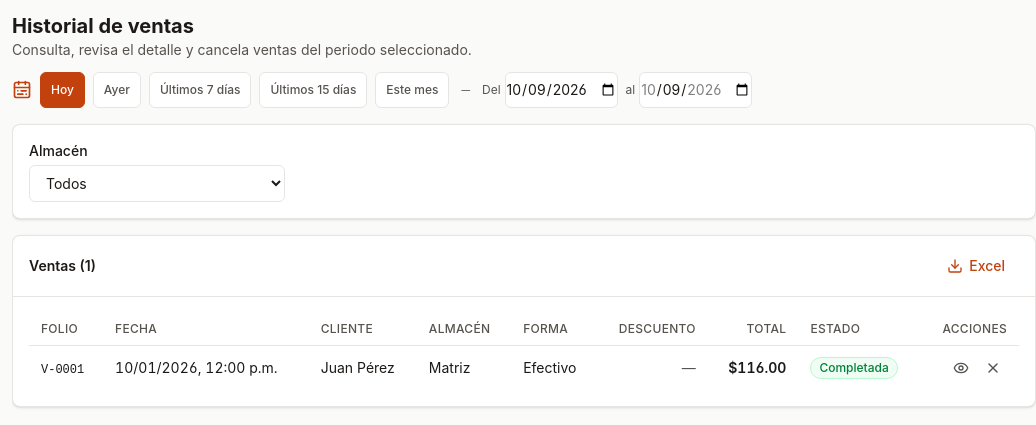
it: VentasPage › filtra por almacén y muestra Limpiar para quitar el filtro
Expected: the text "V-0001" is shown, [41,363,84,377]
Step 1. Select "Matriz" in the dropdown labelled "Almacén" → (157, 184), box [29,165,285,202]
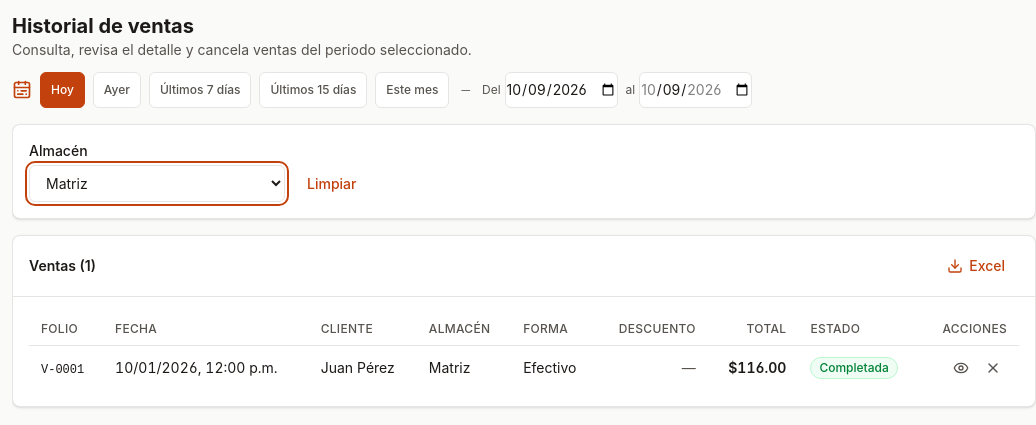
Result: the button "Limpiar" is shown
Step 2. Click the button "Limpiar" → (332, 184), box [293,166,370,202]
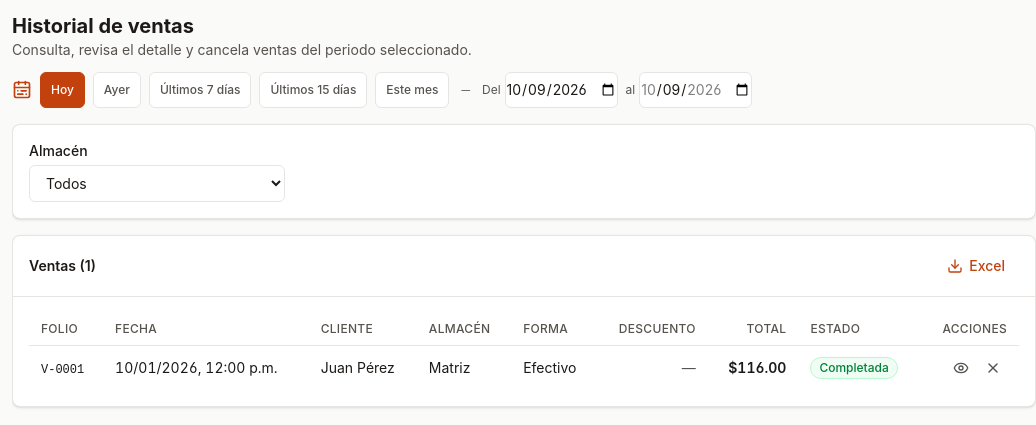
Result: the button "Limpiar" is gone
